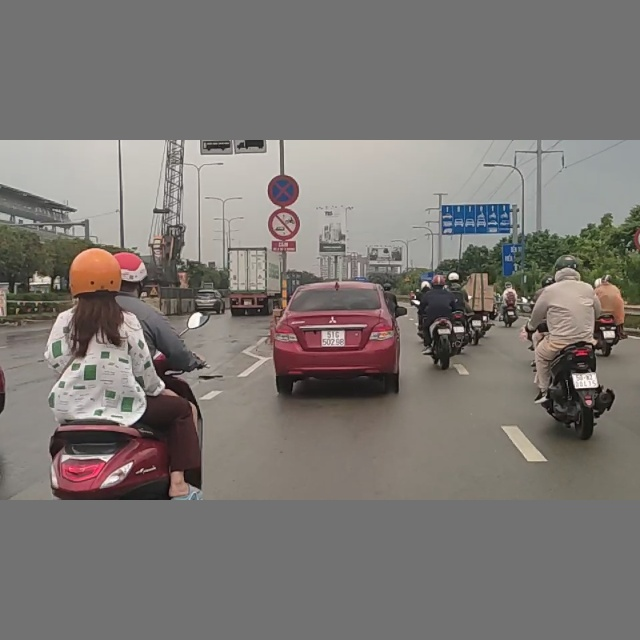P.111: (269, 208, 300, 238)
P.130: (268, 175, 299, 206)
